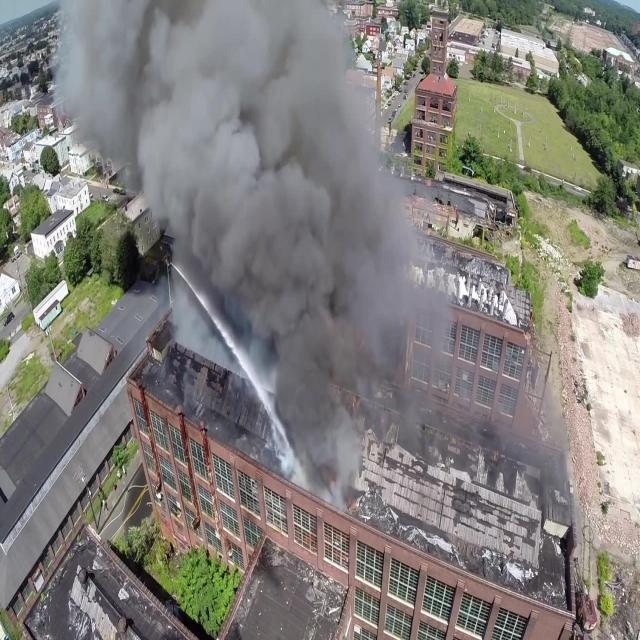Smoke: (68, 24, 343, 124), (201, 70, 343, 236), (242, 154, 380, 305), (125, 72, 279, 166)
